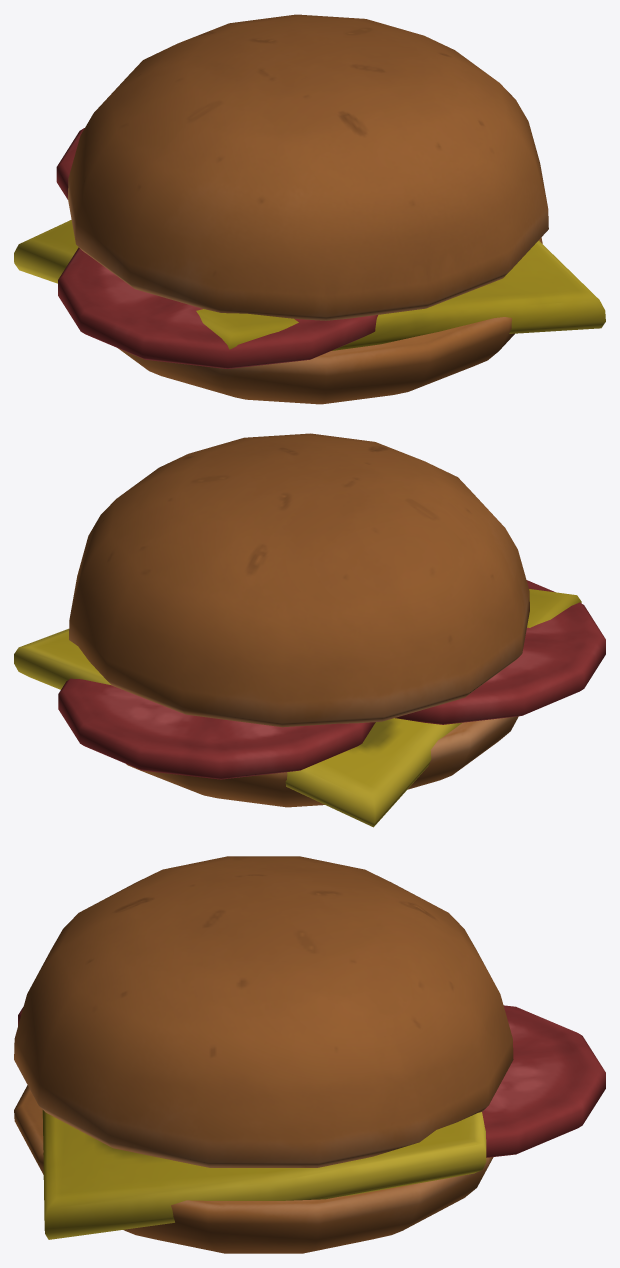
File: MSH_Hamburguesa_P_Q_J.fbx
3 renders of one model, top to bottom at view 1: azimuth 30°, elevation 25°; view 2: azimuth 150°, elevation 25°; view 3: azimuth 270°, elevation 25°, orthographic. The views are drawn at different scales.
Parts seen in each view (by area): view 1: MSH_Hamburguesa_P_Q_J; view 2: MSH_Hamburguesa_P_Q_J; view 3: MSH_Hamburguesa_P_Q_J.
Part boxes in pixels (x1=…): MSH_Hamburguesa_P_Q_J: x1=14, y1=14, x2=605, y2=404; MSH_Hamburguesa_P_Q_J: x1=14, y1=433, x2=605, y2=827; MSH_Hamburguesa_P_Q_J: x1=14, y1=856, x2=605, y2=1253.
Size of the model in its own units: 10.64 by 11.36 by 6.11.
Materials: 1 (1 with a texture image).
